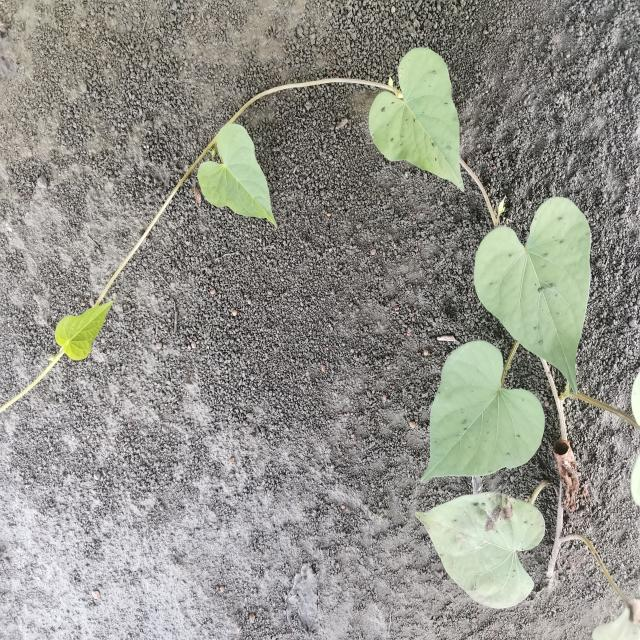MorningGlory: (3, 43, 638, 638)
